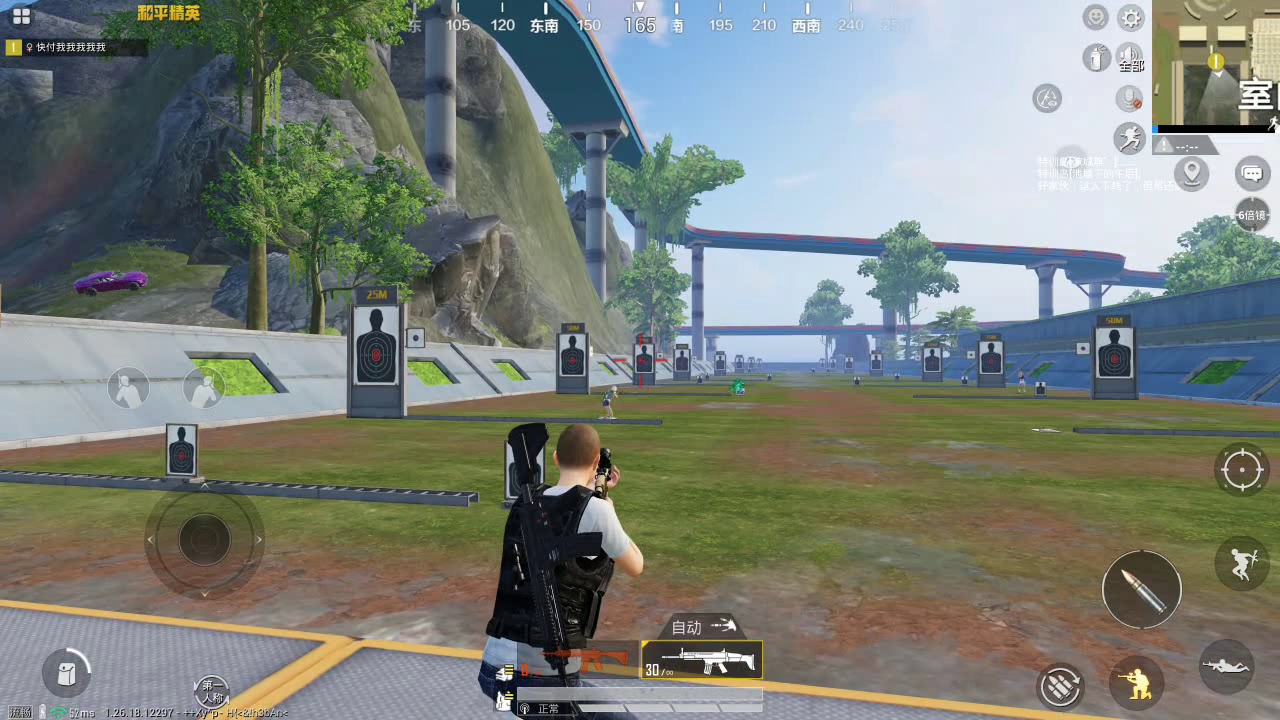enemy: (598, 385, 622, 416)
